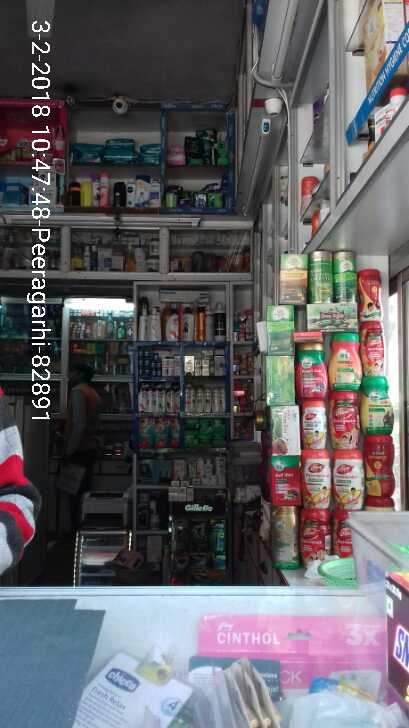vicks: (138, 347, 181, 376)
